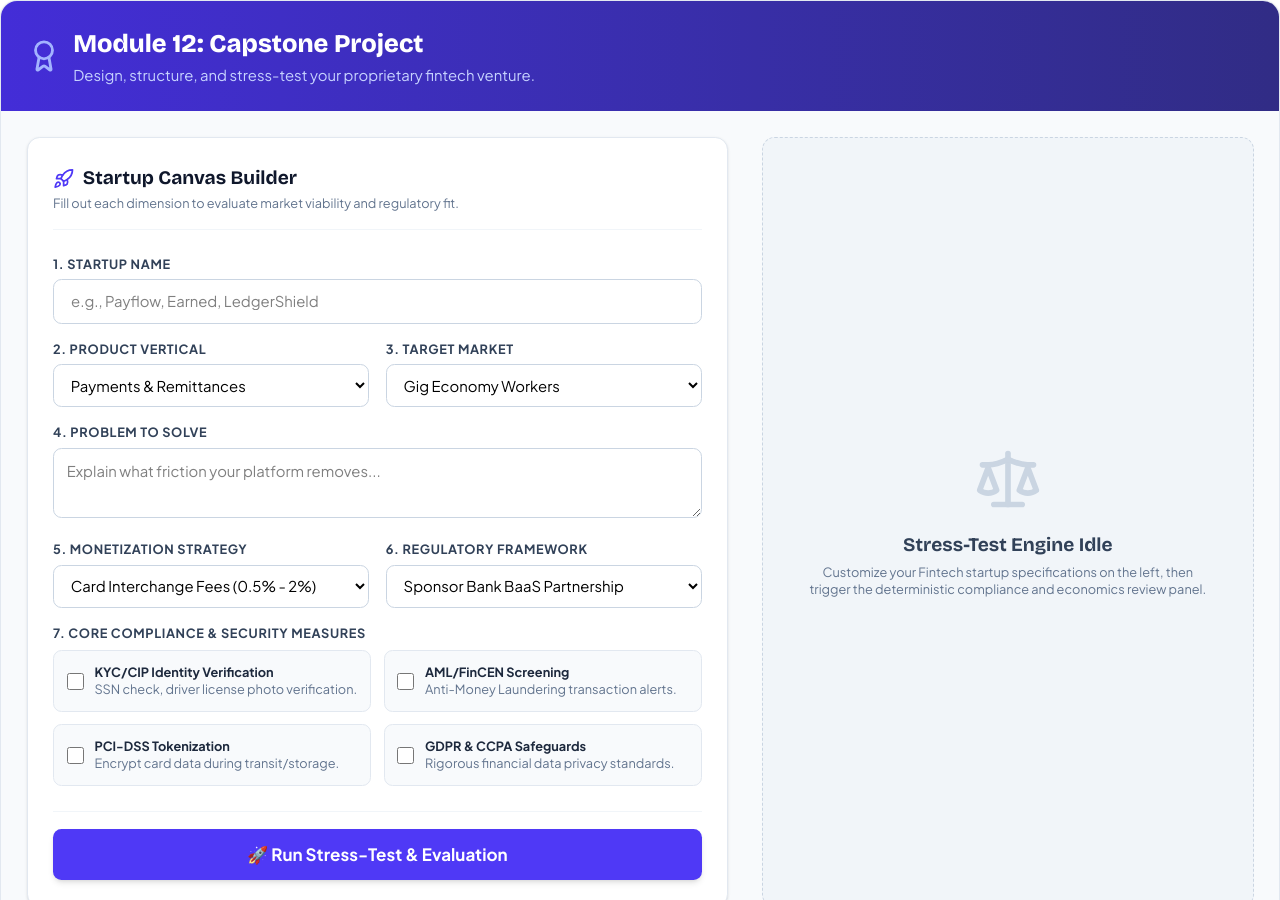
CapstoneCanvas › Evaluation: Payments Vertical › scores payments + interest as acceptable
Type "PayFlow" into the field with placeholder "e.g., Payflow, Earned, LedgerShield".
click(377, 301); type("PayFlow")  # box [53,279,702,324]
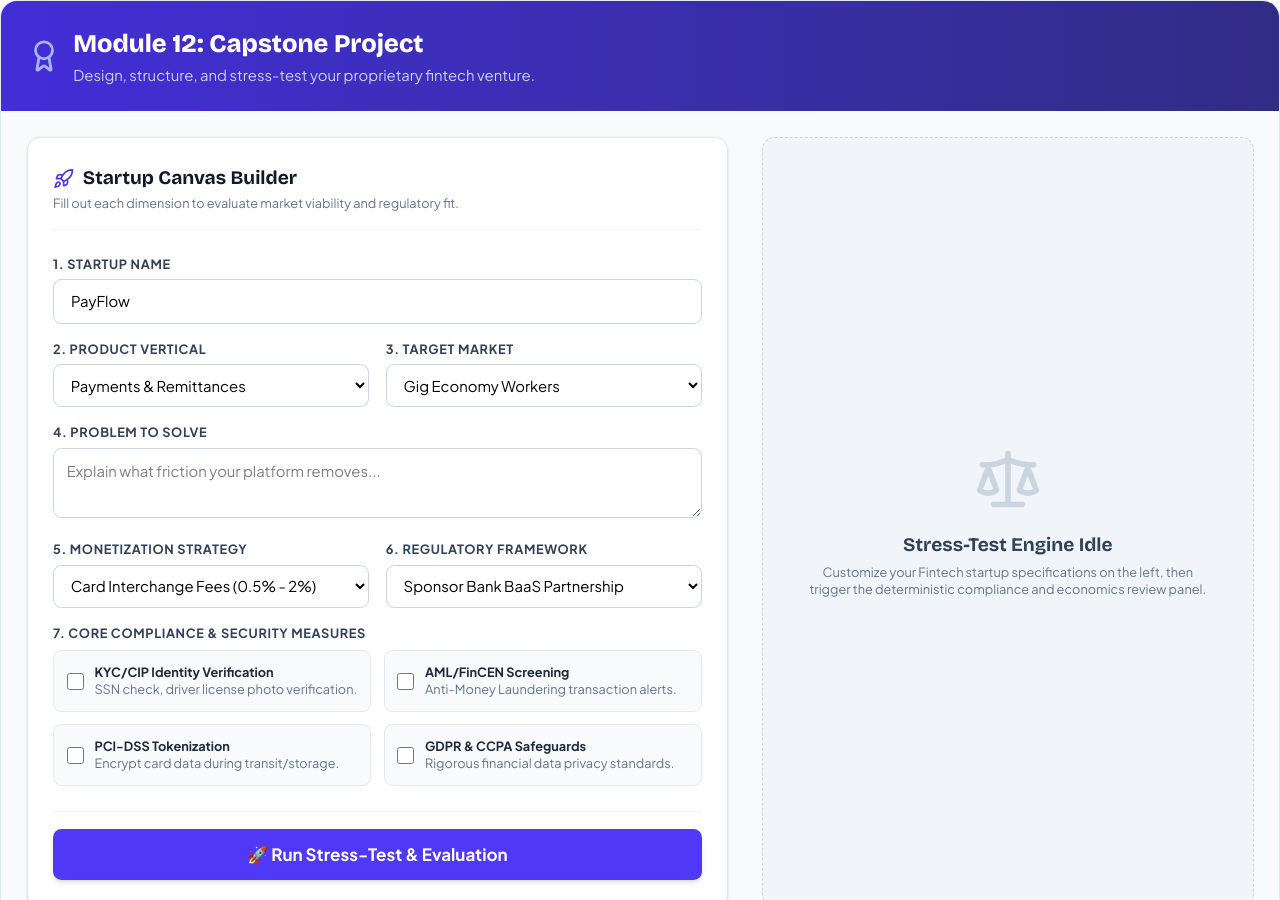
Select "Interest Spread on Deposits / Lending" in the dropdown showing "Card Interchange Fees (0.5% - 2%)" below "5. Monetization Strategy" at (211, 586), box [53,564,369,608]
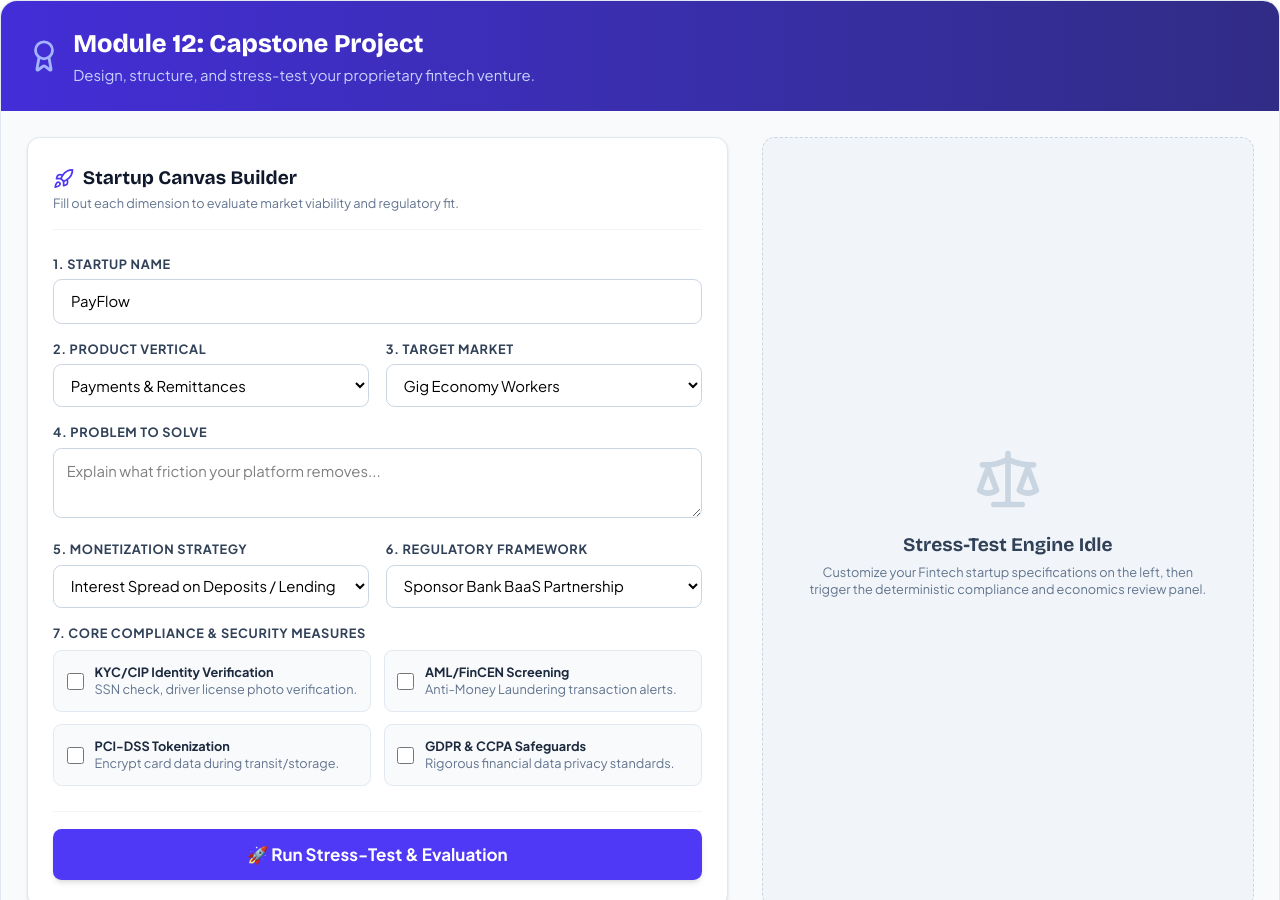
Click the button "🚀 Run Stress-Test & Evaluation".
click(377, 855)  # box [53,830,702,880]
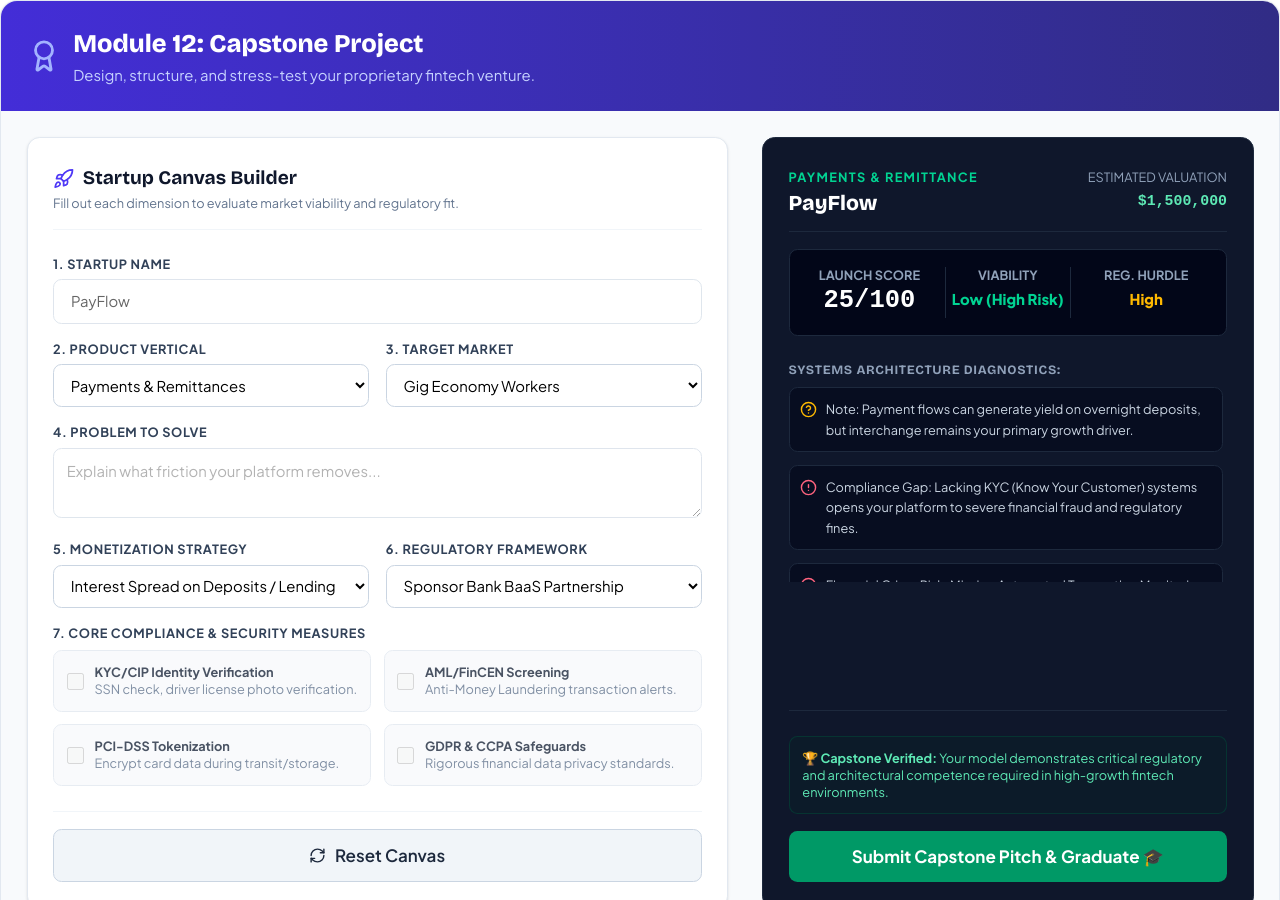
Result: the text "Payment flows can generate yield" is shown at [826,401,1201,438]
